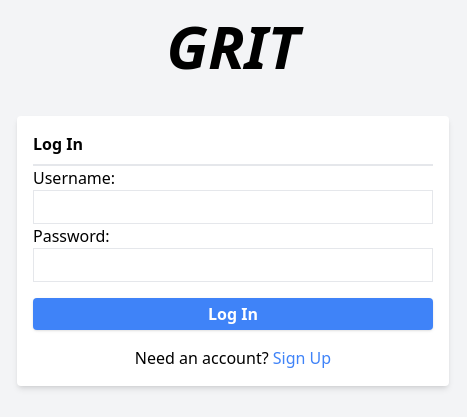
Test case: Login Page › logs in with username missing
Type "password" into the password field labelled "Password:" at x=233, y=265, box 33,248 -> 433,282
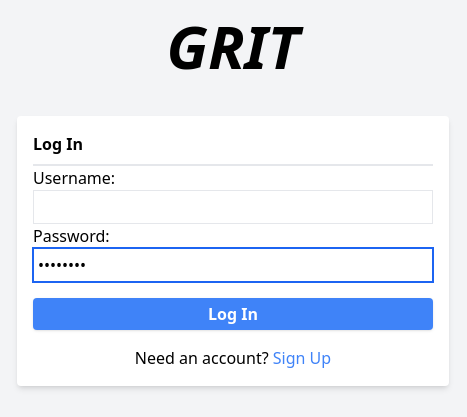
Click the button with test id "login-button" at x=233, y=314, box 33,298 -> 433,330
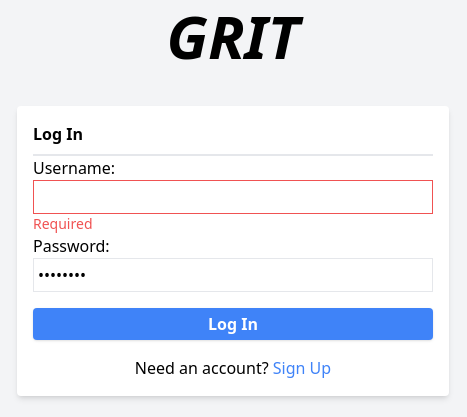
expect the text "Required" is shown: met, box 33,214 -> 92,233
